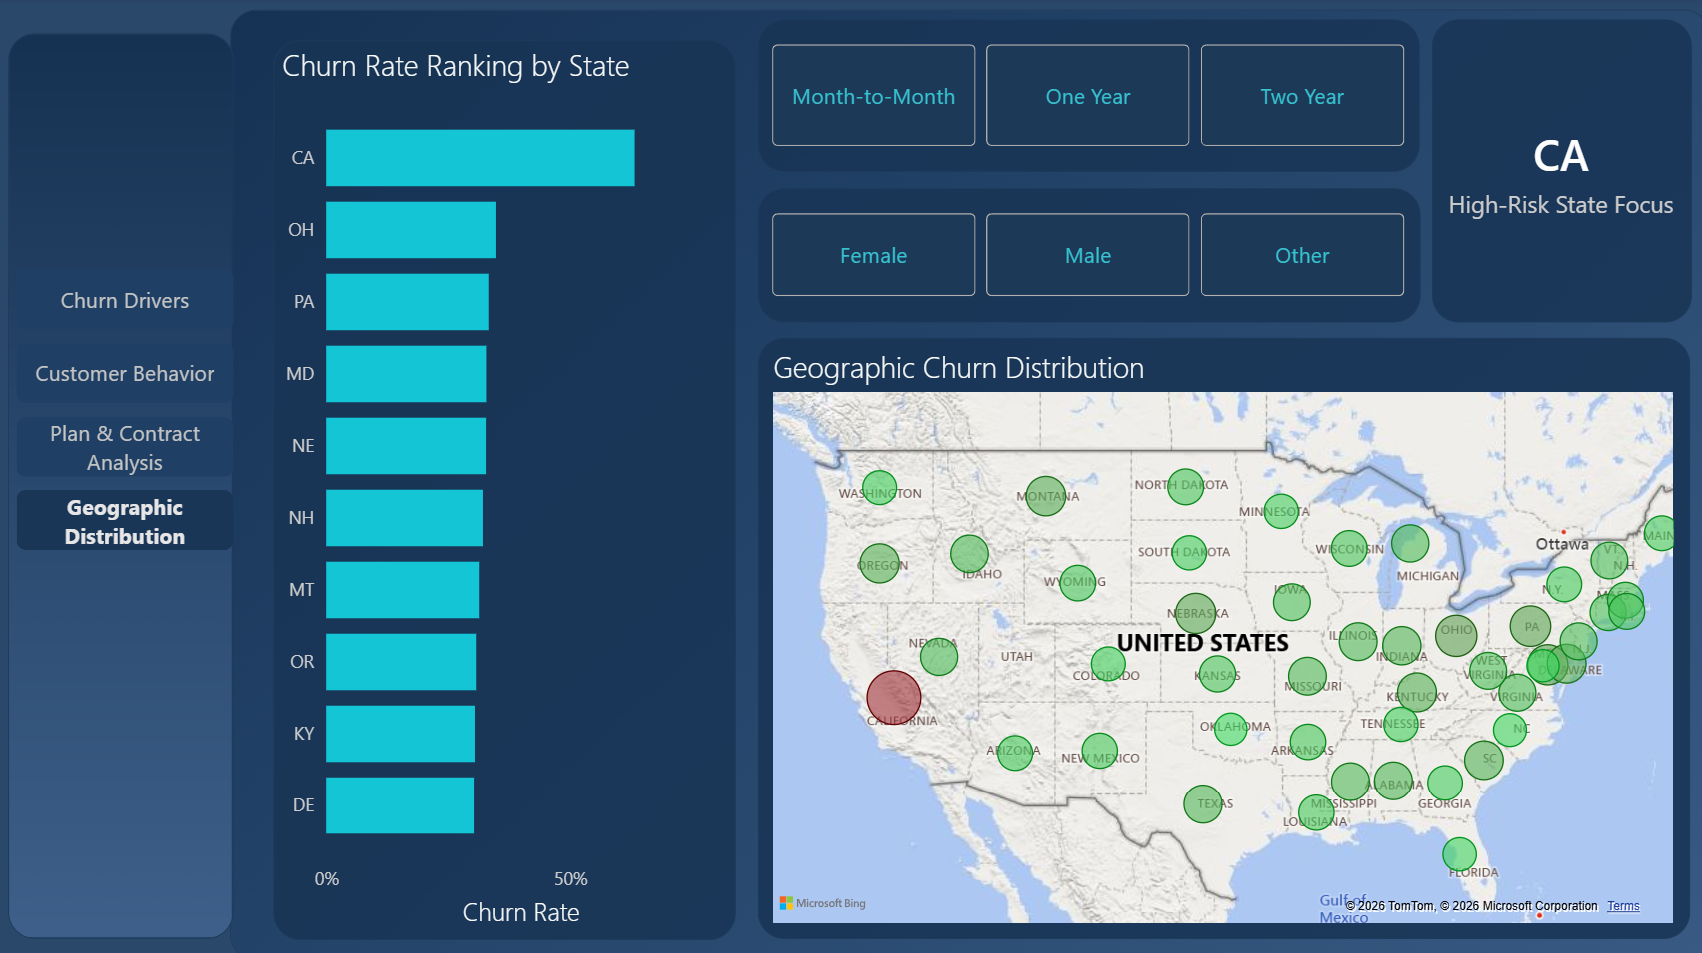

The page's visual inventory and layout, read from the dashboard file:
{"tool":"powerbi","page":{"name":"Geographic Distribution","canvas":[1280,720],"ordinal":3},"visuals":[{"type":"image","box":[174,9.5,1105.4,711.1],"z":0},{"type":"image","box":[8.2,27.1,168.3,676.9],"z":0,"group":"g1"},{"type":"map","title":"Geographic Churn Distribution","fields":{"Category":["Dim_customer.State"],"Size":["_Calculations.Churn Rate"]},"box":[568.4,254.3,696.2,450.1],"z":1000},{"type":"clusteredBarChart","title":"Churn Rate Ranking by State","fields":{"Category":["Dim_customer.State"],"Y":["_Calculations.Churn Rate"]},"box":[206,32.7,345.3,672.5],"z":2000},{"type":"card","fields":{"Values":["_Calculations.Highest Churn State"]},"box":[1071.1,17,193.9,226.6],"z":3000},{"type":"pageNavigator","box":[14.1,203.7,162.4,210.7],"z":3500,"group":"g1"},{"type":"advancedSlicerVisual","fields":{"Values":["Dim_Contract_Services.Contract Type"]},"box":[568.6,16.5,494.4,114.2],"z":4000},{"type":"advancedSlicerVisual","fields":{"Values":["Dim_customer.Gender"]},"box":[568.4,142.8,494.9,100.6],"z":5000},{"type":"group","id":"g1","title":"Group 1","box":[8.2,27.1,168.3,676.9],"z":6000}]}

Visuals, with their boxes in screenshot pixels (x1, y1, x2, y2), scaled from the page's 1280x720 canvas onto the 1702x953 screenshot:
image: [left=231, top=13, right=1701, bottom=952]
image: [left=11, top=36, right=235, bottom=932]
"Geographic Churn Distribution" map: [left=756, top=337, right=1682, bottom=932]
"Churn Rate Ranking by State" clusteredBarChart: [left=274, top=43, right=733, bottom=933]
card - _Calculations.Highest Churn State: [left=1424, top=23, right=1682, bottom=322]
pageNavigator: [left=19, top=270, right=235, bottom=549]
advancedSlicerVisual - Dim_Contract_Services.Contract Type: [left=756, top=22, right=1413, bottom=173]
advancedSlicerVisual - Dim_customer.Gender: [left=756, top=189, right=1414, bottom=322]
"Group 1" group: [left=11, top=36, right=235, bottom=932]
